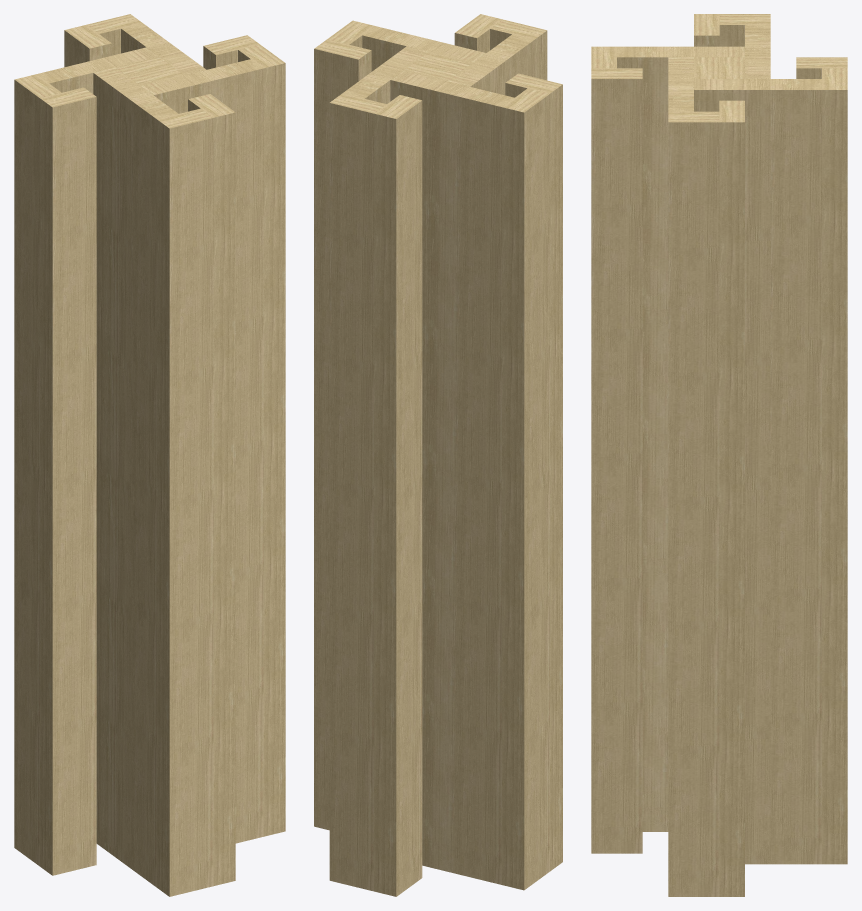
The model's file is plus60.glb.
3 views of the same model, side by side, from view 1: azimuth 30°, elevation 25°; view 2: azimuth 150°, elevation 25°; view 3: azimuth 270°, elevation 25° (orthographic).
Parts seen in each view (by area): view 1: Geom3D (×17); view 2: Geom3D (×17); view 3: Geom3D (×17).
Part boxes in pixels (<box>): Geom3D (×17): <box>14,14,285,896</box>; Geom3D (×17): <box>314,14,562,896</box>; Geom3D (×17): <box>591,14,847,896</box>.
Bounding box in the file's own units: 0.18 × 0.6 × 0.18.
Materials: 1 (1 with a texture image).
